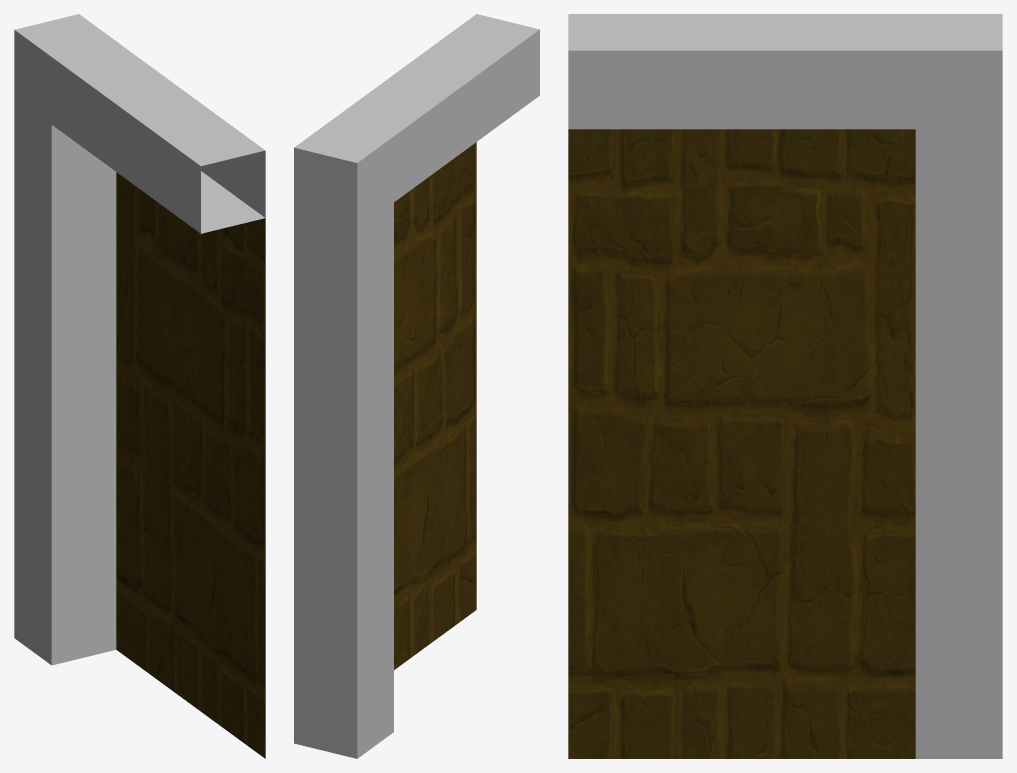
The model's file is WallShortJoin.fbx.
3 views of the same model, side by side, from view 1: azimuth 30°, elevation 25°; view 2: azimuth 150°, elevation 25°; view 3: azimuth 270°, elevation 25° (orthographic). The views are drawn at different scales.
Visible parts, largest first — view 1: WallShortJoin; view 2: WallShortJoin; view 3: WallShortJoin.
Boxes of the visible parts, <box> form: WallShortJoin: <box>14,14,265,758</box>; WallShortJoin: <box>294,14,539,758</box>; WallShortJoin: <box>568,14,1002,758</box>.
Size of the model in its own units: 1 by 9 by 5.
